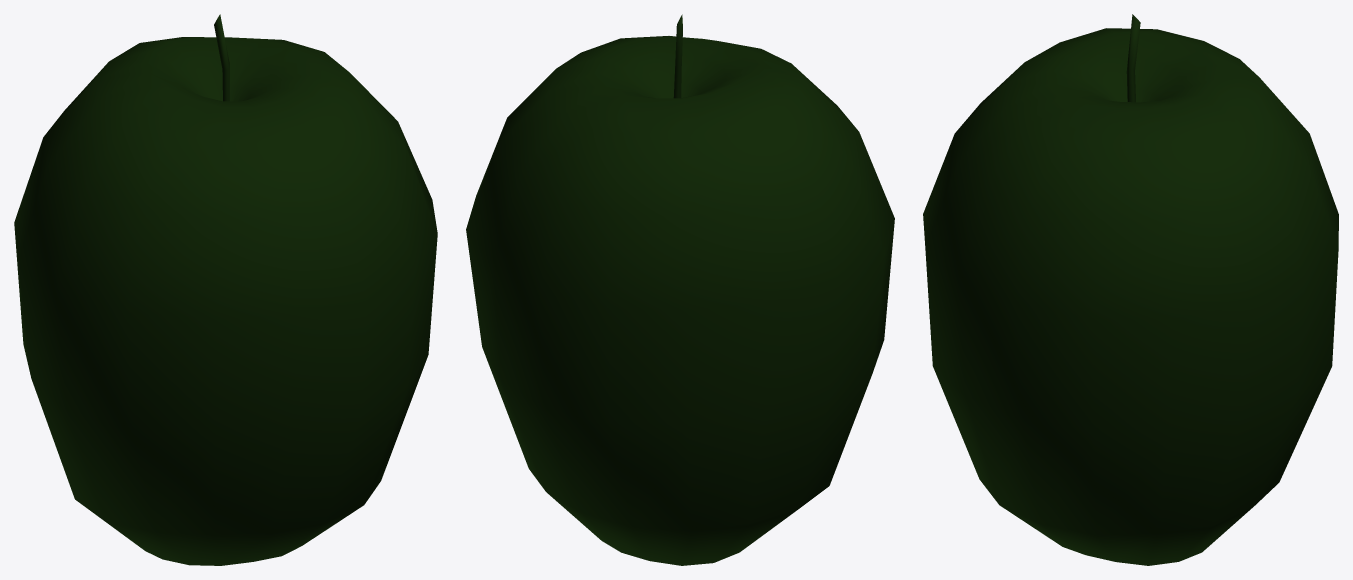
The model's file is Apple_11.obj.
The picture shows the model from 3 angles, left to right: view 1: azimuth 30°, elevation 25°; view 2: azimuth 150°, elevation 25°; view 3: azimuth 270°, elevation 25°; orthographic projection.
Bounding box in the file's own units: 0.1035 × 0.1391 × 0.1005.
